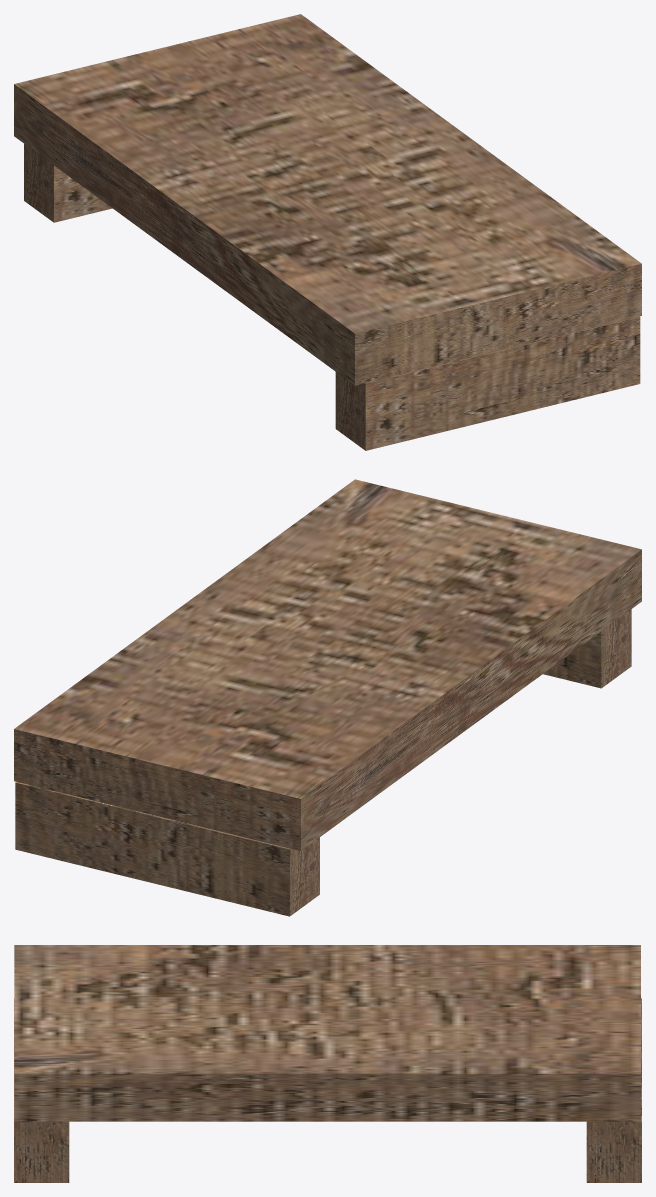
The model's file is Jojodog.fbx.
The picture shows the model from 3 angles, top to bottom: view 1: azimuth 30°, elevation 25°; view 2: azimuth 150°, elevation 25°; view 3: azimuth 270°, elevation 25°; orthographic projection. The views are drawn at different scales.
Parts seen in each view (by area): view 1: Cube, Cube.001, Cube.002; view 2: Cube, Cube.002, Cube.001; view 3: Cube, Cube.001, Cube.002.
Boxes of the visible parts, <box> form: Cube: <box>14,14,641,385</box>; Cube.001: <box>335,316,640,450</box>; Cube.002: <box>24,144,112,222</box>; Cube: <box>14,479,641,850</box>; Cube.002: <box>15,782,319,916</box>; Cube.001: <box>543,609,631,688</box>; Cube: <box>14,945,640,1121</box>; Cube.001: <box>14,998,69,1182</box>; Cube.002: <box>586,998,641,1182</box>.
Size of the model in its own units: 143 by 57.19 by 296.
